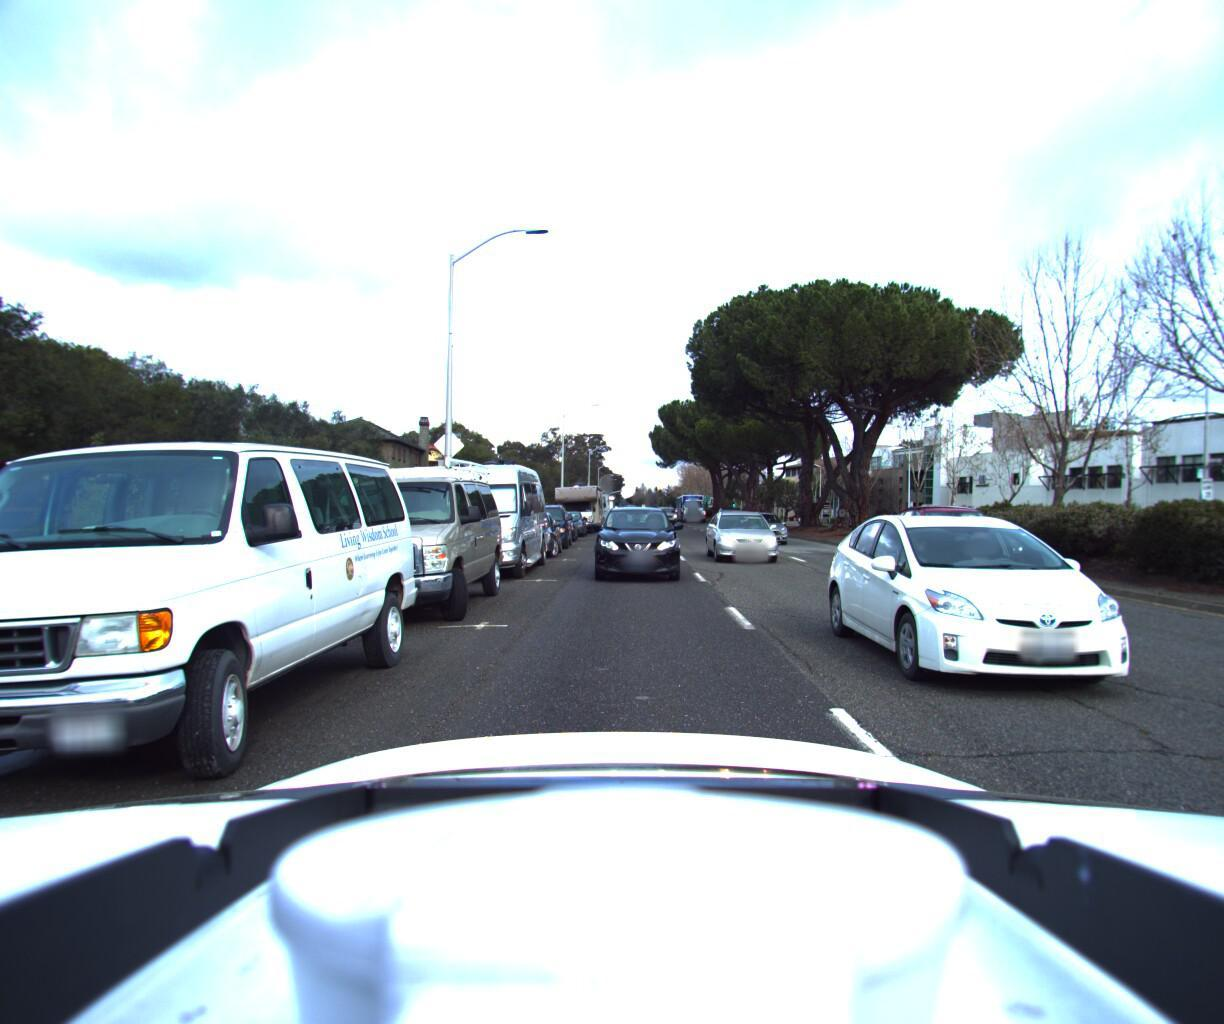car: (0, 390, 413, 836), (839, 495, 1224, 754), (272, 444, 502, 636), (410, 444, 548, 586), (892, 503, 1070, 593), (587, 507, 677, 587), (703, 508, 787, 569), (491, 513, 562, 563), (512, 505, 571, 554), (733, 509, 802, 549), (547, 511, 585, 540)
other_vehicle: (550, 485, 602, 536)
